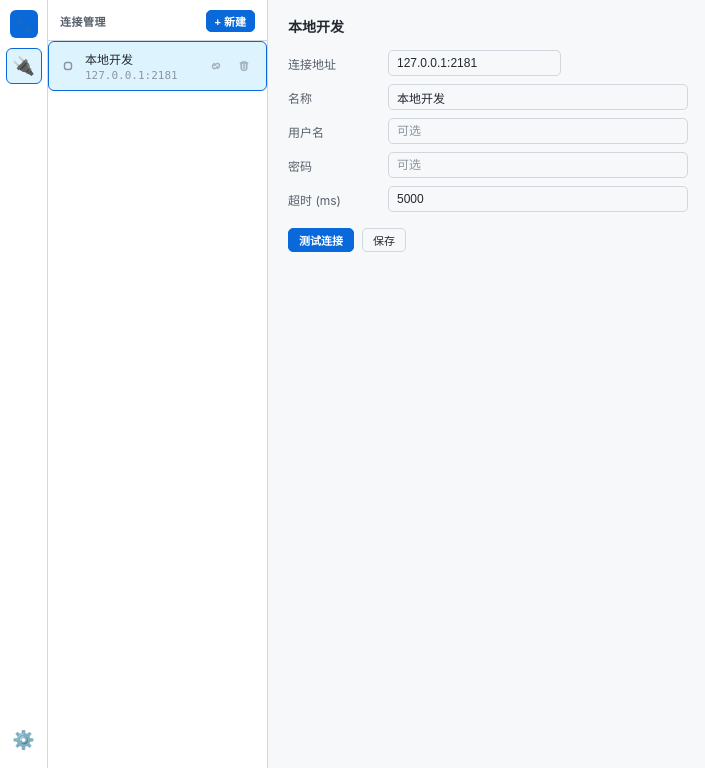
Scenario: shows a success toast after saving a connection
This screenshot has width=705, height=768.
Step 1. Replace the text in the field labelled "名称" with "新的本地连接" → (538, 97), box [388,84,688,110]
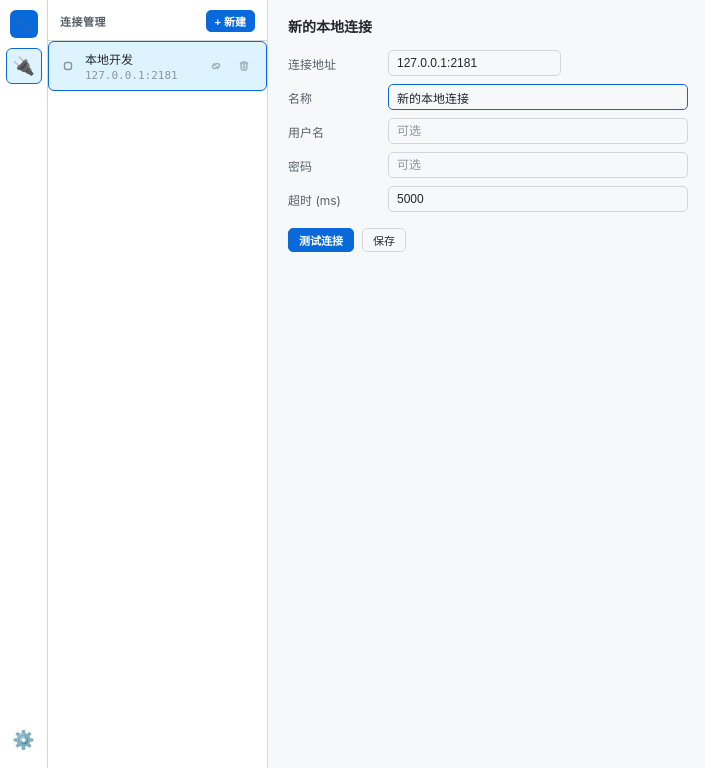
Step 2. Click the button "保存" → (384, 240), box [362,228,406,252]
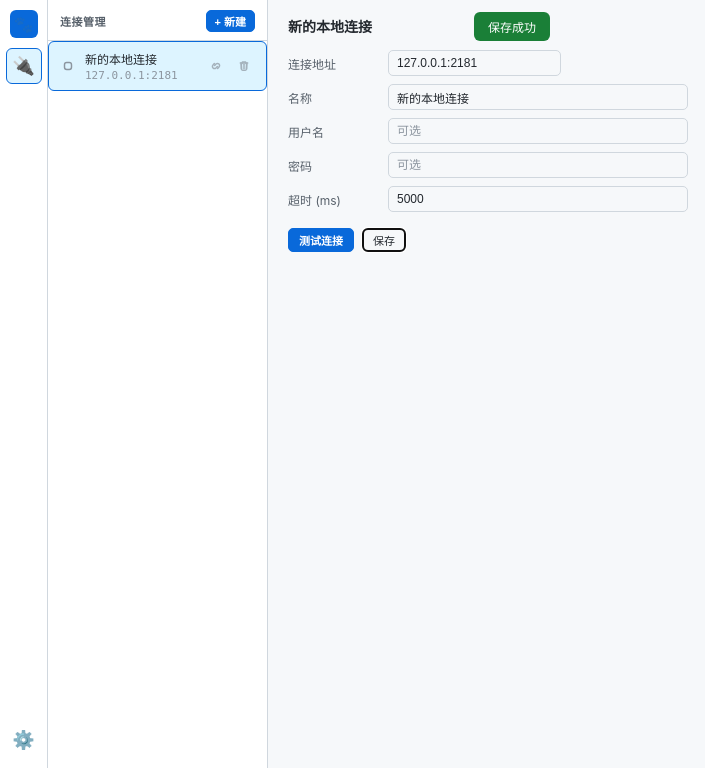
Expected: the text "保存成功" is shown, [474,12,550,41]
